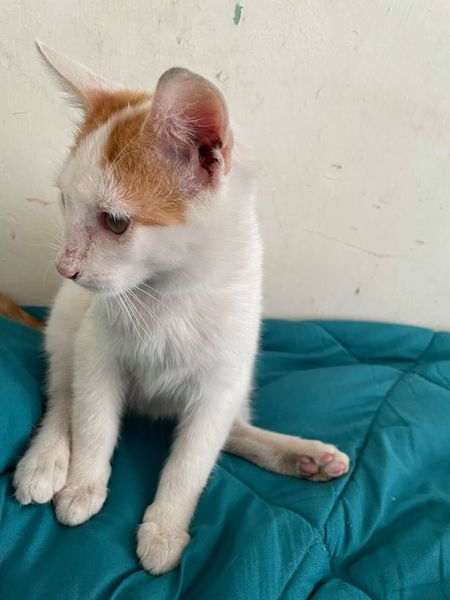cat: (19, 23, 351, 579)
